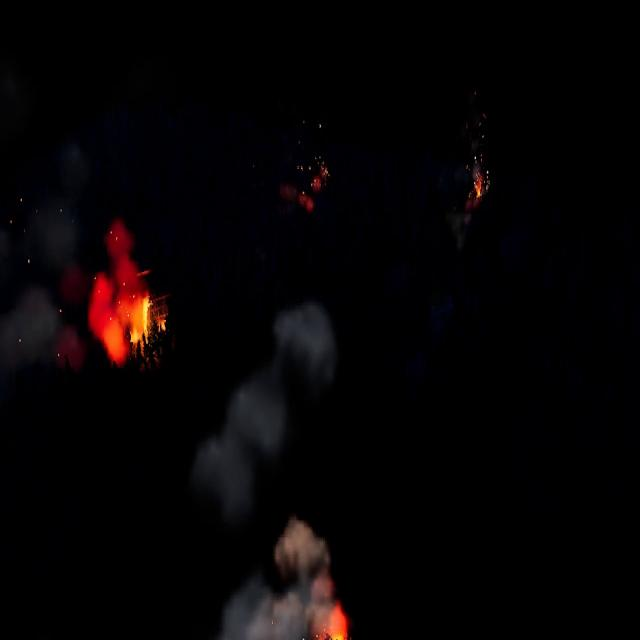fire: (91, 220, 168, 363), (315, 603, 355, 640), (312, 162, 328, 193), (474, 170, 488, 204)
smoke: (195, 298, 346, 640), (0, 136, 113, 383), (280, 181, 315, 214), (449, 209, 473, 252)
